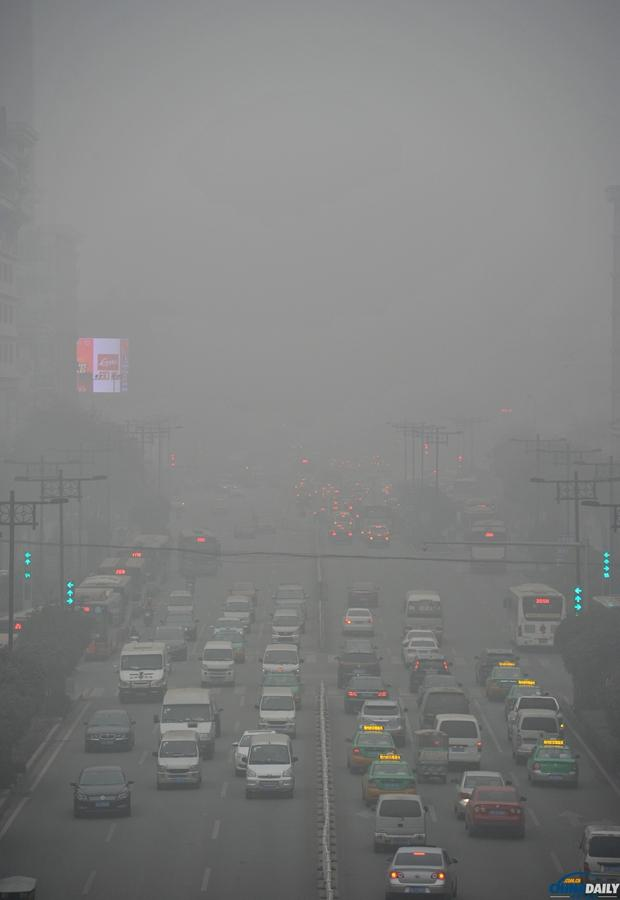bus: (503, 581, 568, 652), (62, 587, 121, 660), (174, 526, 224, 577), (97, 553, 146, 602), (400, 589, 445, 642), (127, 526, 171, 580), (466, 521, 510, 575)
car: (153, 688, 219, 758), (384, 846, 461, 900), (369, 793, 430, 855), (462, 784, 526, 841), (69, 763, 137, 814), (360, 752, 421, 808), (116, 638, 168, 703), (426, 711, 485, 767), (241, 735, 295, 796), (503, 690, 566, 742), (152, 729, 204, 791), (509, 706, 565, 761), (344, 721, 402, 774), (450, 769, 514, 816), (524, 740, 580, 788), (231, 723, 281, 776), (352, 698, 409, 744), (576, 823, 620, 880), (81, 709, 138, 752), (251, 686, 300, 736), (416, 687, 472, 730), (472, 646, 522, 688), (483, 660, 533, 702), (341, 675, 391, 714), (257, 641, 304, 681), (504, 678, 547, 719), (336, 647, 381, 686), (258, 671, 304, 708), (415, 671, 458, 710), (267, 604, 305, 647), (207, 625, 247, 664), (406, 658, 453, 691), (269, 580, 310, 614), (151, 622, 187, 659), (403, 632, 442, 665), (221, 594, 256, 629), (338, 605, 376, 636), (162, 607, 198, 639), (344, 576, 381, 607), (403, 626, 440, 656), (338, 635, 379, 660), (227, 578, 262, 607), (165, 586, 194, 617), (208, 616, 246, 639), (326, 526, 354, 547), (366, 525, 392, 546)
